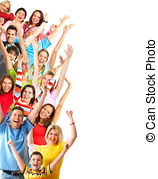face: (36, 101, 57, 121), (9, 104, 25, 129), (42, 126, 62, 145), (3, 42, 20, 63), (36, 50, 54, 68), (1, 72, 15, 94), (15, 3, 29, 24), (28, 152, 45, 169), (20, 86, 37, 103), (40, 73, 58, 89), (5, 22, 18, 43), (29, 9, 44, 26), (1, 1, 16, 17)
